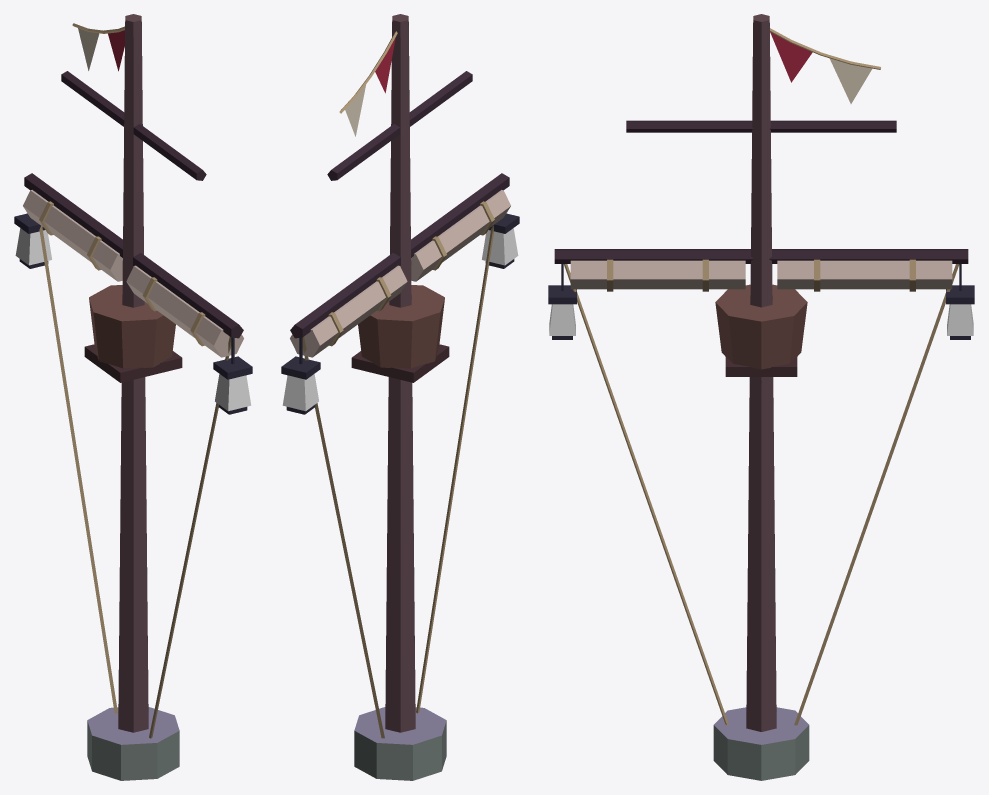
Rendered from Fair_Mast.fbx.
3 renders of one model, left to right at view 1: azimuth 30°, elevation 25°; view 2: azimuth 150°, elevation 25°; view 3: azimuth 270°, elevation 25°, orthographic.
Visible parts, largest first — view 1: Fair_Mast; view 2: Fair_Mast; view 3: Fair_Mast.
Boxes of the visible parts, x1,y1,x2,y2 form: Fair_Mast: (14, 14, 252, 780); Fair_Mast: (281, 14, 519, 780); Fair_Mast: (548, 14, 974, 780).
Size of what is drawn, in the model's own units: 1.2 by 10.3 by 5.36.
Materials: 2 (1 with a texture image).
